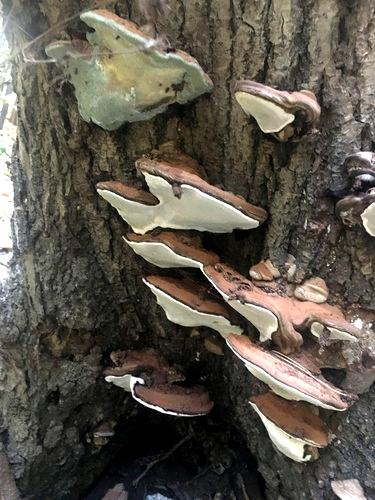Ganoderma - Fruit Body: (100, 253, 375, 474), (47, 10, 206, 125), (97, 155, 261, 236), (227, 71, 315, 154), (341, 155, 375, 245)
